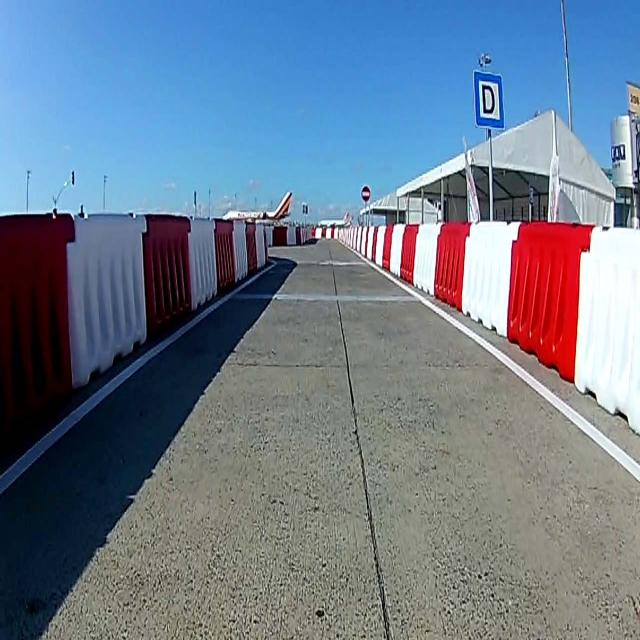durak: (474, 71, 504, 129)
girisyok: (360, 185, 371, 203)
